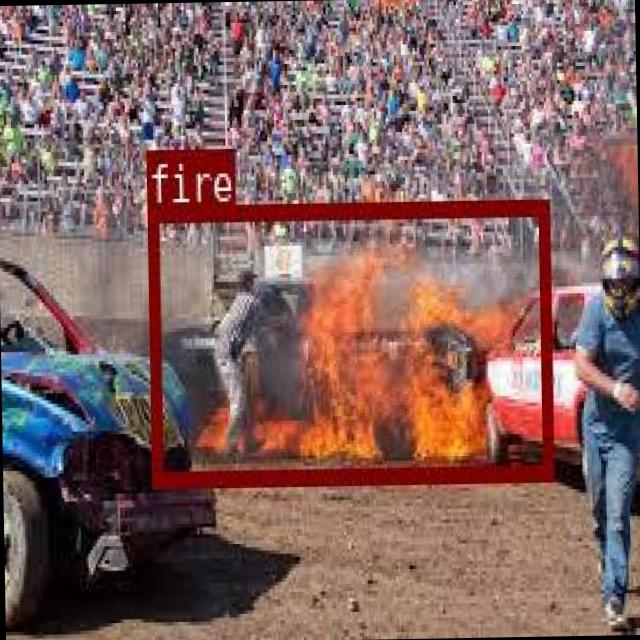fire: (146, 199, 552, 485)
